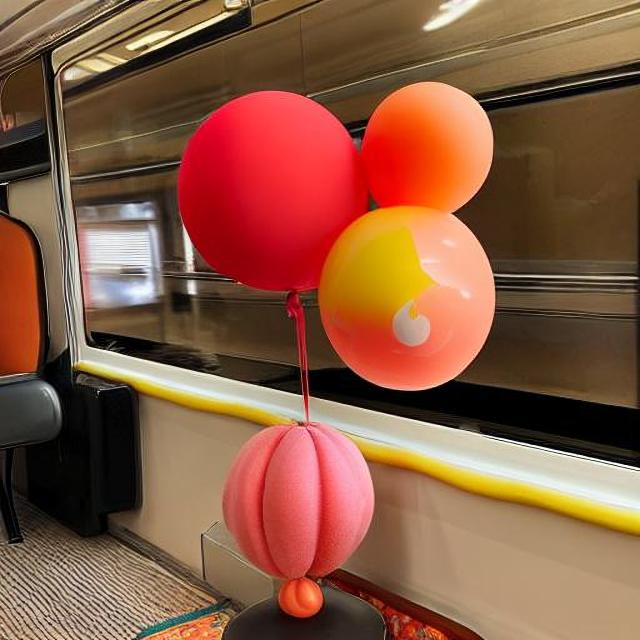balloon: (176, 80, 365, 294), (312, 171, 494, 386), (214, 406, 373, 586), (351, 80, 491, 220)
